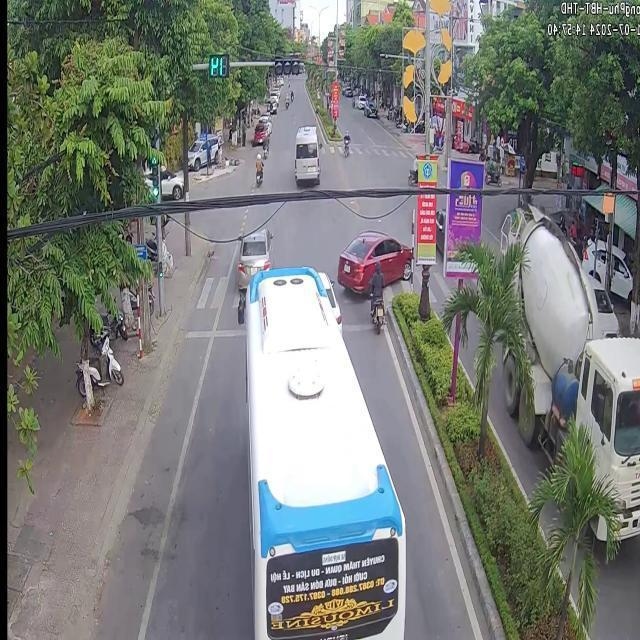car: (244, 265, 404, 636), (499, 202, 638, 536), (336, 229, 409, 290), (236, 222, 272, 289), (293, 125, 319, 182)
green_light: (209, 50, 228, 73)
motobike: (367, 260, 383, 331)
stop_line: (212, 327, 243, 336), (340, 322, 370, 329), (184, 329, 210, 336)
